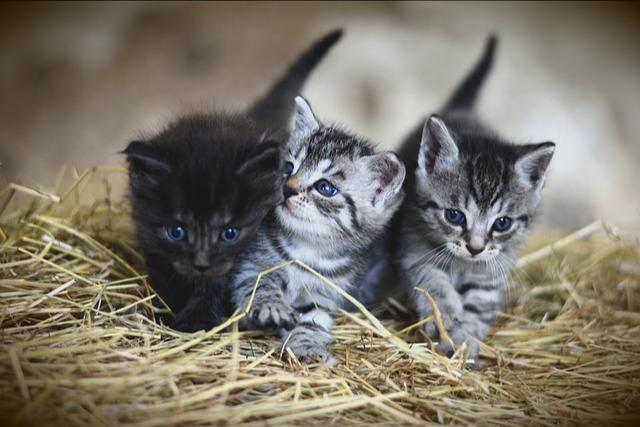Non_Gorille: (2, 0, 638, 423)
